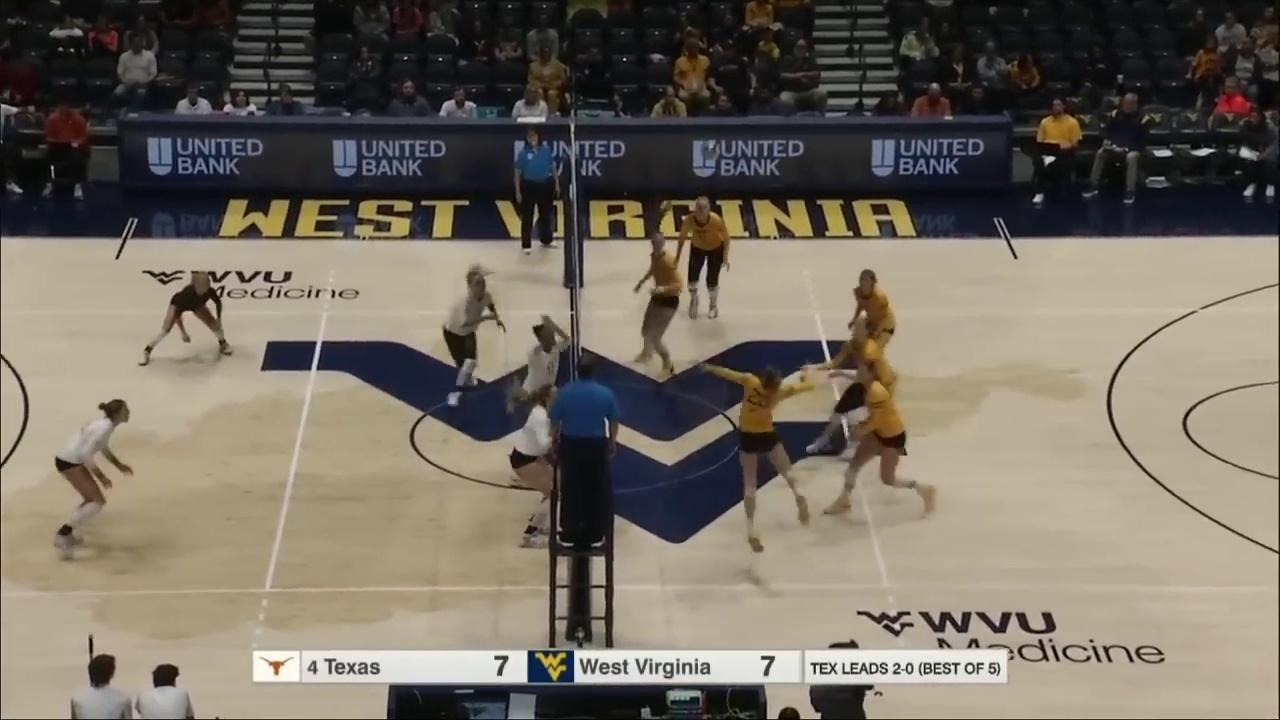player: (699, 360, 814, 550), (820, 351, 941, 523), (803, 317, 911, 463), (48, 400, 129, 559), (134, 267, 234, 366), (513, 384, 570, 548), (435, 262, 500, 405), (628, 229, 684, 374), (517, 317, 572, 461), (675, 193, 731, 322), (849, 270, 897, 386)
refree: (550, 349, 620, 552), (510, 123, 561, 257)
